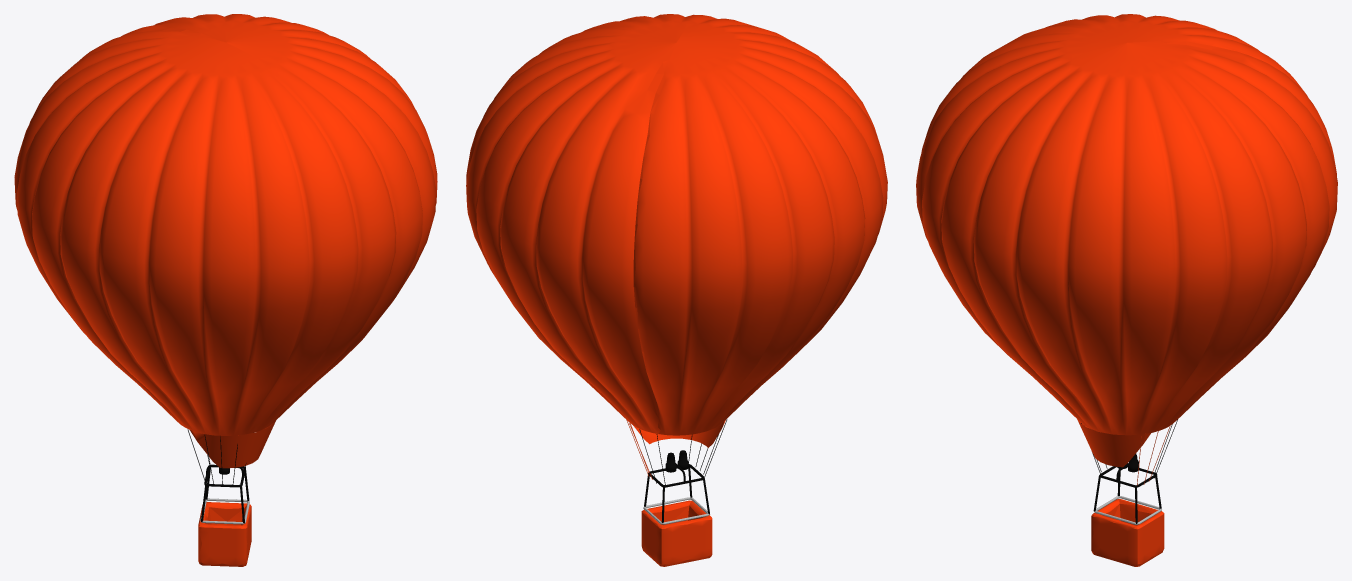
Rendered from HotAirBalloon.fbx.
The picture shows the model from 3 angles, left to right: view 1: azimuth 30°, elevation 25°; view 2: azimuth 150°, elevation 25°; view 3: azimuth 270°, elevation 25°; orthographic projection.
Parts seen in each view (by area): view 1: Sphere04, Box03, Tube04; view 2: Sphere04, Box03, Tube04; view 3: Sphere04, Box03, Tube04.
Boxes of the visible parts, x1,y1,x2,y2 form: Sphere04: [14, 14, 437, 435]; Box03: [198, 502, 251, 566]; Tube04: [190, 421, 275, 468]; Sphere04: [466, 14, 887, 435]; Box03: [641, 500, 712, 566]; Tube04: [633, 420, 725, 447]; Sphere04: [916, 14, 1337, 435]; Box03: [1091, 499, 1164, 566]; Tube04: [1077, 419, 1150, 467].
Bounding box in the file's own units: 7477 × 10000 × 7475.
